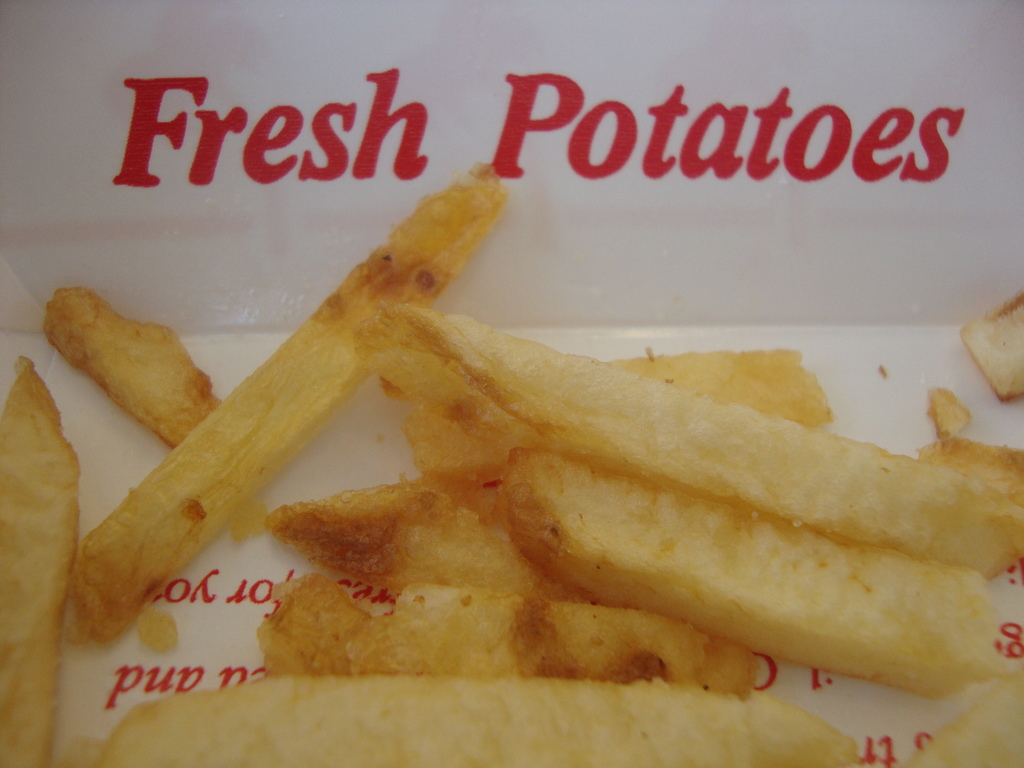French fries: (64, 170, 979, 726)
